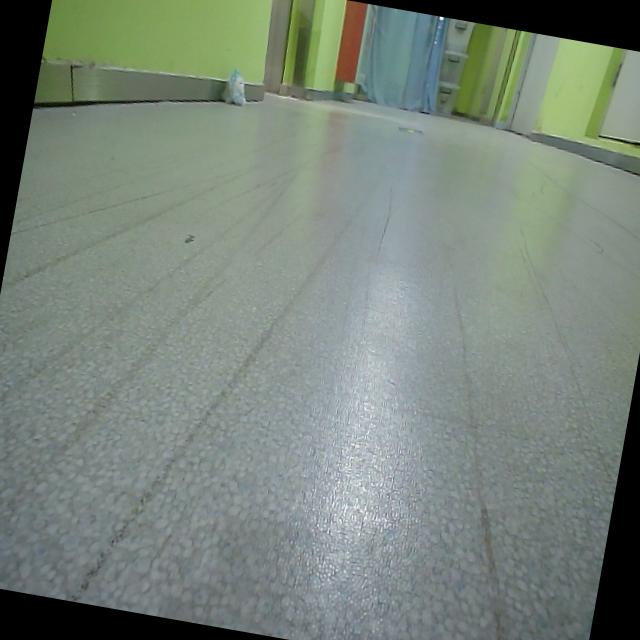xiaoba: (222, 64, 257, 111)
